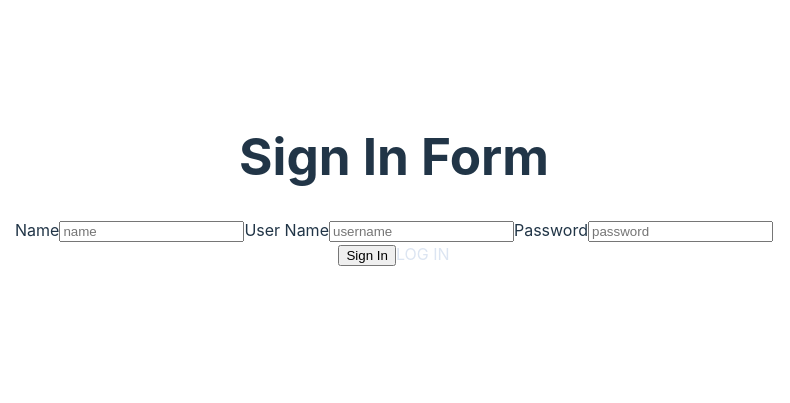
Test: Signin › should have errors message when the value of the fields are invalid
Click the button "Sign In" at x=367, y=256, box [338, 246, 396, 266]
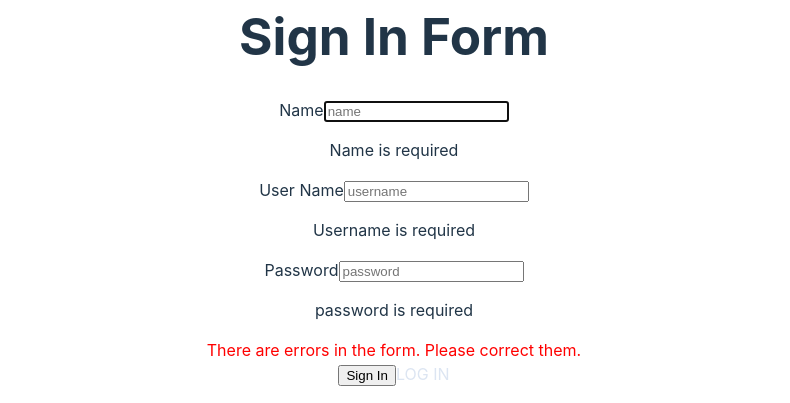
Result: the text "Name is required" is shown at [330, 140, 458, 160]
Result: the text "Username is required" is shown at [313, 220, 475, 240]
Result: the text "password is required" is shown at [315, 300, 473, 320]
